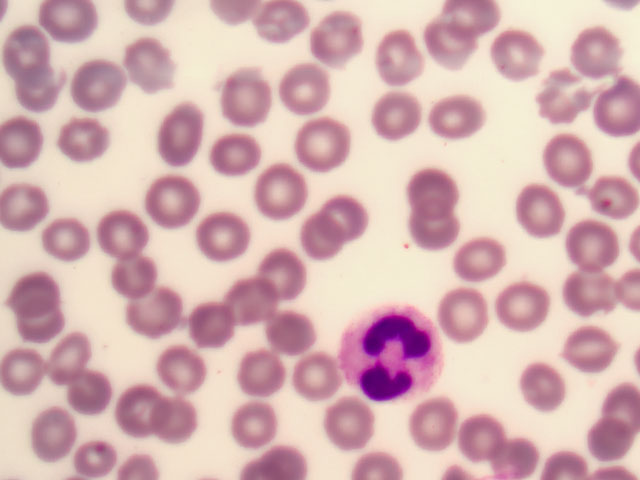RBC: (14, 63, 69, 117), (71, 57, 126, 111), (122, 39, 177, 93), (148, 106, 203, 160), (58, 114, 113, 168), (3, 181, 58, 235), (26, 208, 81, 262), (91, 206, 146, 260), (140, 181, 195, 235), (200, 208, 255, 262), (102, 245, 157, 299), (133, 274, 188, 328), (53, 324, 108, 378), (4, 349, 59, 403), (14, 270, 69, 324), (65, 369, 120, 423), (30, 402, 85, 456), (67, 426, 122, 480), (109, 370, 164, 424), (143, 391, 198, 445), (151, 340, 206, 394), (182, 306, 237, 360), (220, 281, 275, 335), (257, 247, 312, 301), (292, 215, 347, 269), (322, 194, 377, 248), (260, 167, 315, 221), (210, 129, 265, 183), (215, 78, 270, 132), (283, 62, 338, 116), (316, 7, 371, 61), (256, 3, 311, 57), (371, 27, 426, 81), (369, 89, 424, 143), (425, 87, 480, 141), (420, 23, 475, 77), (488, 25, 543, 79), (540, 65, 595, 119), (573, 19, 628, 73), (585, 80, 640, 134), (540, 135, 595, 189), (580, 166, 635, 220), (516, 186, 571, 240), (410, 199, 465, 253), (410, 177, 465, 231), (459, 235, 514, 289), (492, 267, 547, 321), (444, 293, 499, 347), (557, 319, 612, 373), (573, 268, 628, 322), (565, 214, 620, 268), (517, 359, 572, 413), (584, 411, 639, 465), (490, 426, 545, 480), (458, 414, 513, 468), (405, 394, 460, 448), (326, 393, 381, 447), (293, 355, 348, 409), (262, 306, 317, 360), (230, 338, 285, 392), (226, 396, 281, 450), (1, 23, 55, 77), (1, 119, 55, 173), (37, 1, 92, 54)
WBC: (340, 304, 445, 409)
